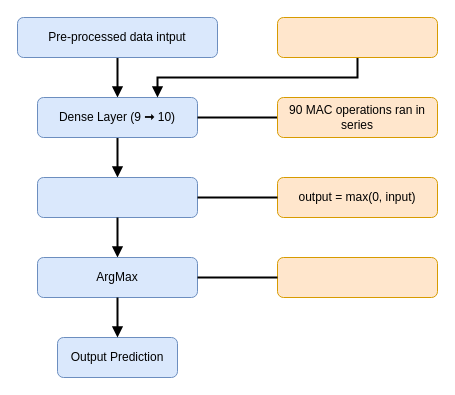
Image size: 455x395. Some labels were removed from this diagram. Each missing label, with the centre of its shape:
90 Weights: point (357, 37)
Performed Externally: point (357, 277)
ReLU Activation: point (117, 197)
